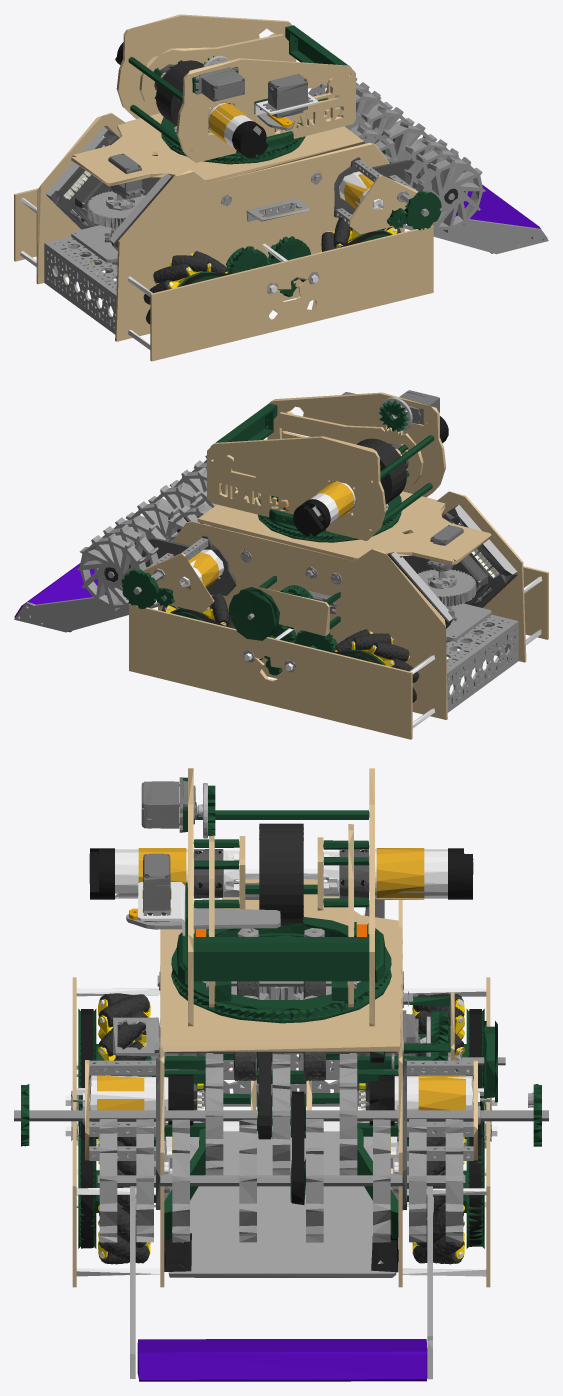
Rendered from uran-v2.glb.
The picture shows the model from 3 angles, top to bottom: view 1: azimuth 30°, elevation 25°; view 2: azimuth 150°, elevation 25°; view 3: azimuth 270°, elevation 25°; orthographic projection. The views are drawn at different scales.
Parts seen in each view (by area): view 1: body, turret, intake_front, arm, wheel_br, flywheel, wheel_fr, intake_back; view 2: body, turret, intake_front, arm, wheel_bl, flywheel, intake_back, wheel_fl; view 3: body, turret, intake_front, arm, intake_back, flywheel, wheel_fl, wheel_br, wheel_fr, wheel_bl, transfer_front.
Boxes of the visible parts, x1,y1,x2,y2 form: body: (14,113,454,361); turret: (115,14,355,164); intake_front: (308,78,485,233); arm: (402,183,548,254); wheel_br: (143,251,228,324); flywheel: (156,60,203,126); wheel_fr: (317,208,400,253); intake_back: (314,93,397,171); body: (107,491,548,739); turret: (207,390,448,542); intake_front: (76,455,221,611); arm: (14,557,160,632); wheel_bl: (334,629,419,702); flywheel: (356,438,406,504); intake_back: (165,485,249,578); wheel_fl: (162,593,235,628); body: (14,879,548,1287); turret: (89,768,473,1026); intake_front: (99,1119,463,1242); arm: (130,1186,433,1381); intake_back: (205,1054,357,1175); flywheel: (259,823,303,923); wheel_fl: (394,1135,484,1264); wheel_br: (78,993,157,1086); wheel_fr: (78,1121,168,1264); wheel_bl: (412,993,484,1086); transfer_front: (234,1051,325,1080).
Size of the model in its own units: 0.5333 by 0.3049 by 0.384.
